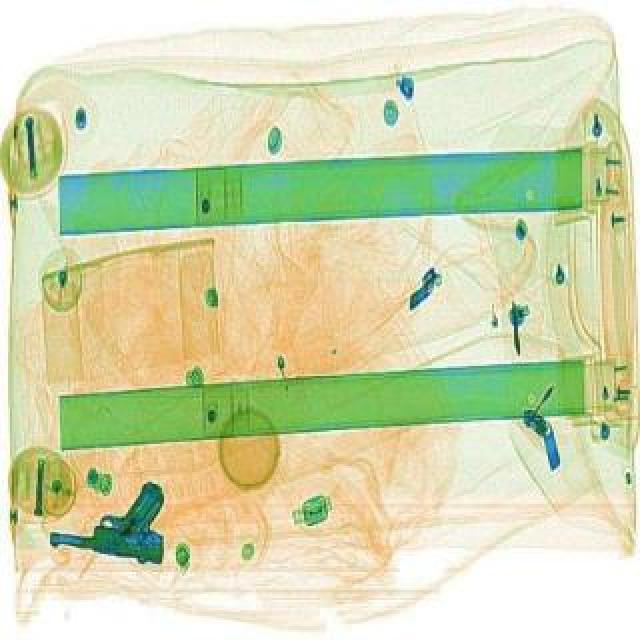gun: (48, 464, 176, 560)
